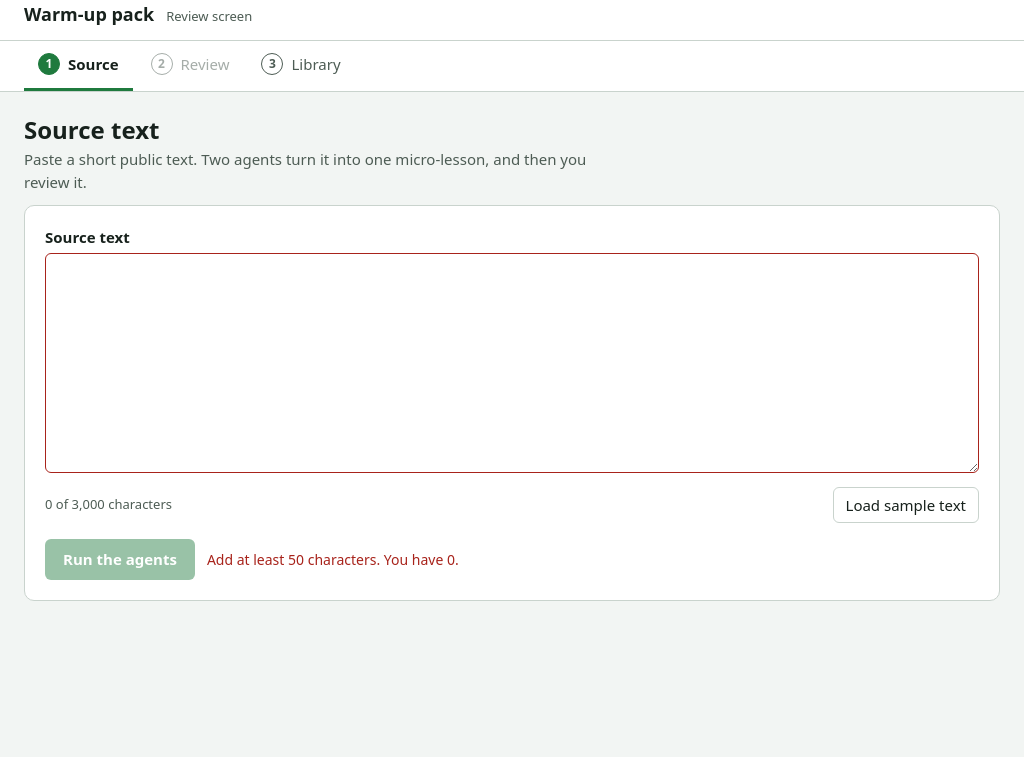
Review screen app › approves a clean lesson straight away and copies it as contract JSON (FR-7)
The width and height of the screenshot is (1024, 757).
Click the button "Load sample text" at (906, 505), box [832, 487, 979, 523]
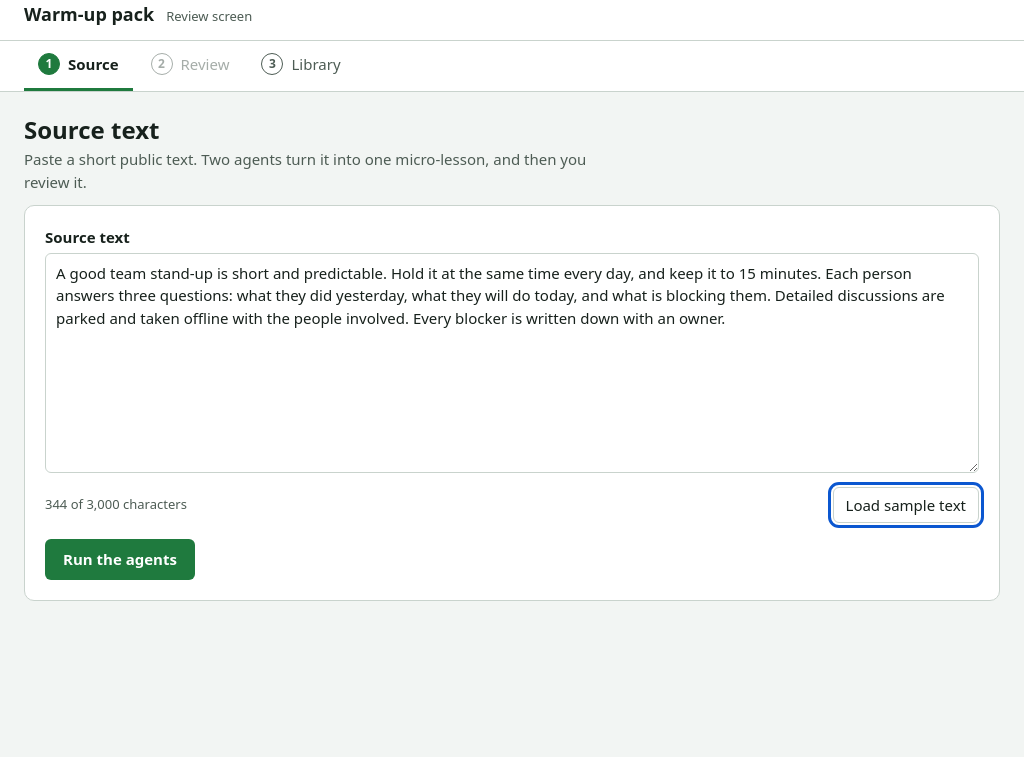
Click the button "Run the agents" at (120, 560), box [45, 539, 195, 580]
(page scrolled)
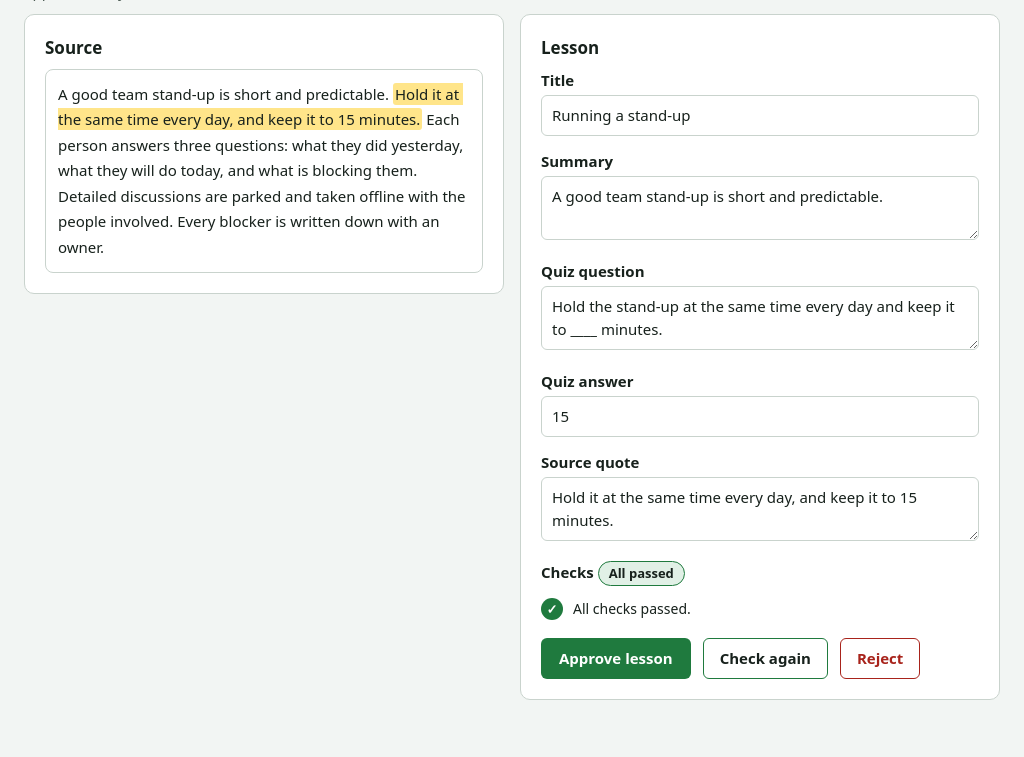
Click the button "Approve lesson" at (616, 659), box [541, 638, 691, 679]
(page scrolled)
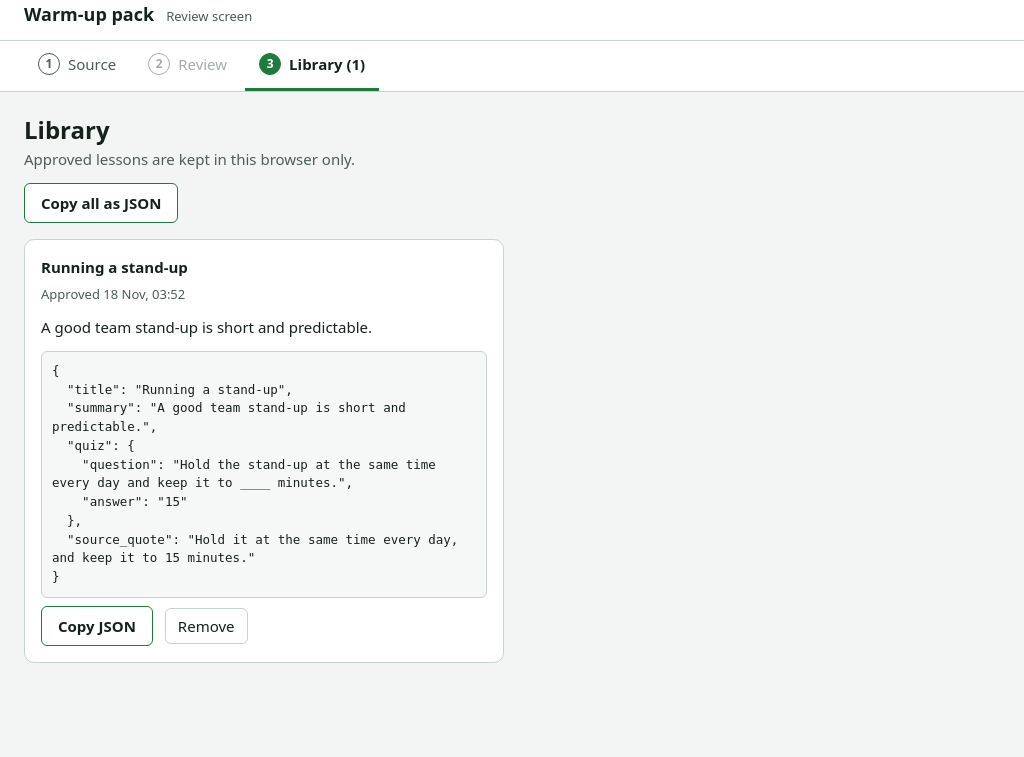
Expected: the button with aria-label "Copy JSON for Running a stand-up" is enabled, [41, 606, 153, 646]
Expected: the text "\"source_quote\"" is shown, [52, 363, 466, 584]
